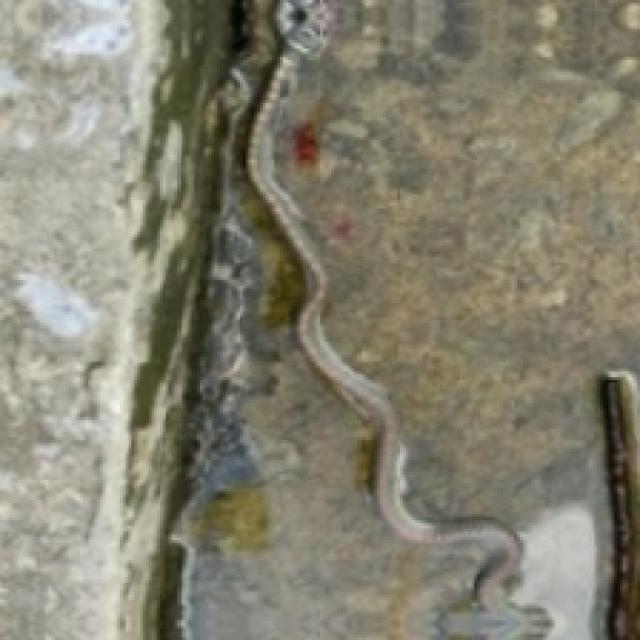paradise tree snake: (248, 0, 554, 634)
